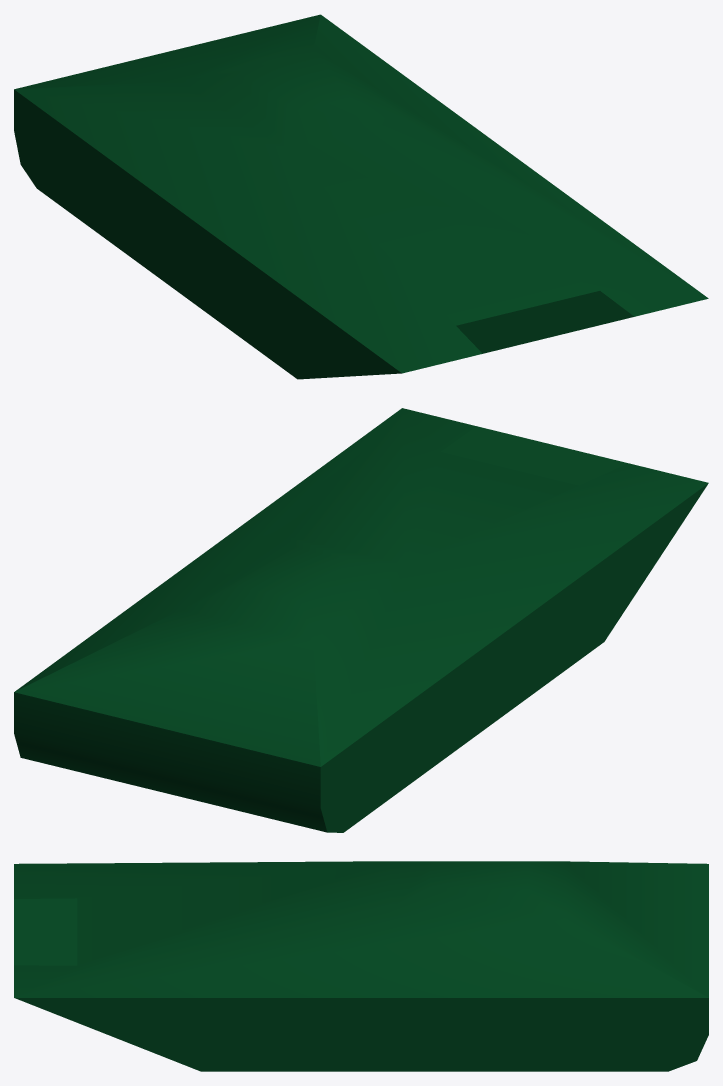
Rendered from body.fbx.
3 renders of one model, top to bottom at view 1: azimuth 30°, elevation 25°; view 2: azimuth 150°, elevation 25°; view 3: azimuth 270°, elevation 25°, orthographic. The views are drawn at different scales.
Visible parts, largest first — view 1: pCube1; view 2: pCube1; view 3: pCube1.
Part boxes in pixels (box(x1,y1,x2,y2)): pCube1: box(14, 14, 708, 379); pCube1: box(14, 408, 708, 832); pCube1: box(14, 861, 708, 1071).
Size of the model in its own units: 4.97 by 2.23 by 10.89.
